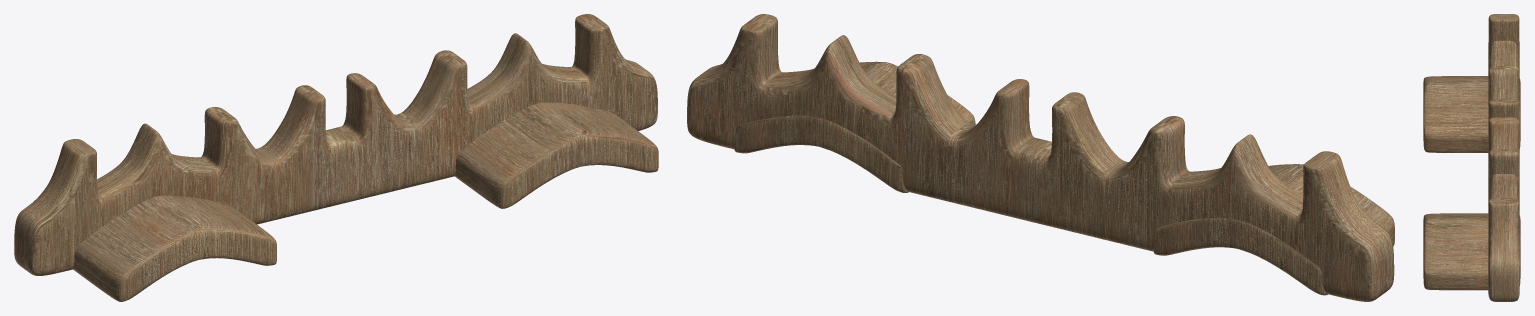
File: yunta.fbx
3 views of the same model, side by side, from view 1: azimuth 30°, elevation 25°; view 2: azimuth 150°, elevation 25°; view 3: azimuth 270°, elevation 25° (orthographic). The views are drawn at different scales.
Parts seen in each view (by area): view 1: yunta.001; view 2: yunta.001; view 3: yunta.001.
Part boxes in pixels (x1,y1,x2,y2): yunta.001: (14,14,658,301); yunta.001: (687,14,1394,301); yunta.001: (1423,14,1520,301).
Bounding box in the file's own units: 1533 × 273 × 278.
